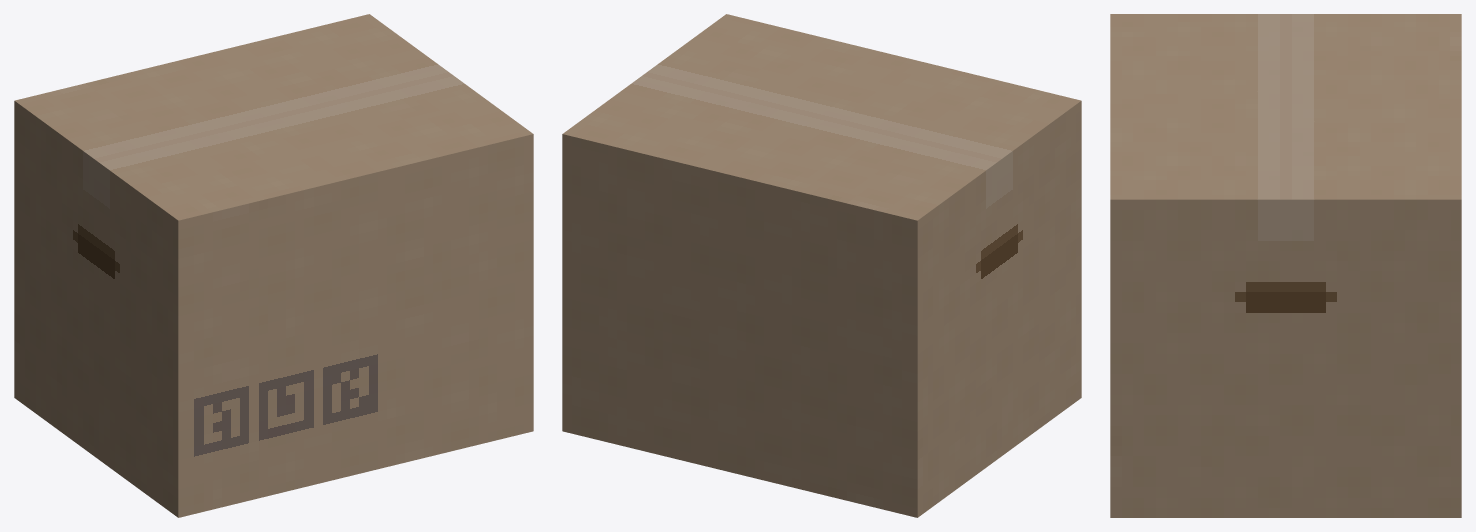
File: cardboard_boxes.glb
The picture shows the model from 3 angles, left to right: view 1: azimuth 30°, elevation 25°; view 2: azimuth 150°, elevation 25°; view 3: azimuth 270°, elevation 25°; orthographic projection. The views are drawn at different scales.
Parts seen in each view (by area): view 1: cardboard_box_1; view 2: cardboard_box_1; view 3: cardboard_box_1.
Boxes of the visible parts, x1,y1,x2,y2 form: cardboard_box_1: [14, 14, 533, 517]; cardboard_box_1: [562, 14, 1081, 517]; cardboard_box_1: [1110, 14, 1461, 517].
Bounding box in the file's own units: 2.5 × 2 × 2.
1 material, 1 textured.
